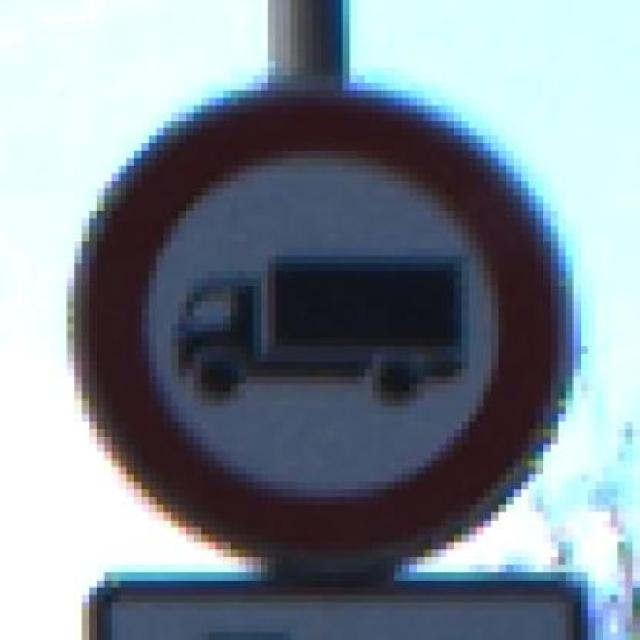Truck traffic is prohibited: (52, 75, 596, 572)
